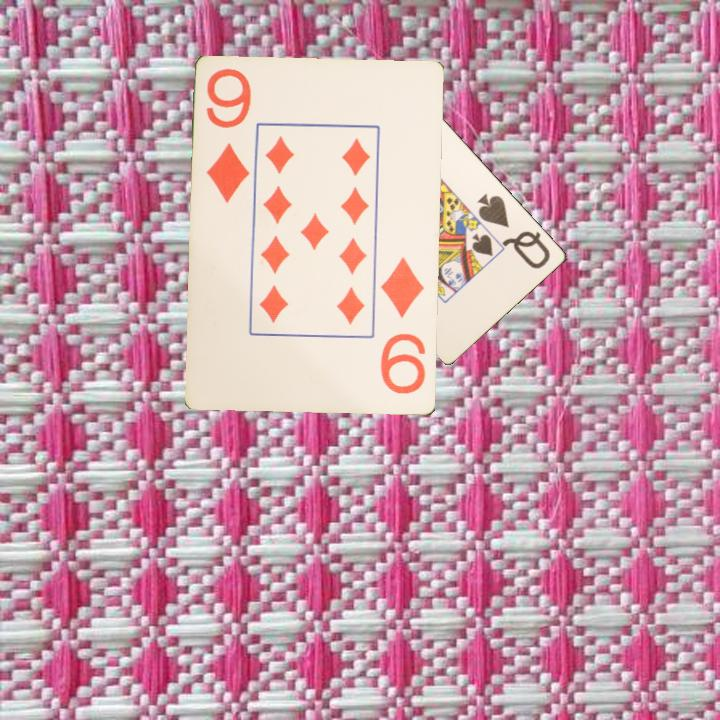9d: (377, 254, 429, 398), (203, 65, 255, 206)
Qs: (474, 190, 554, 272)
